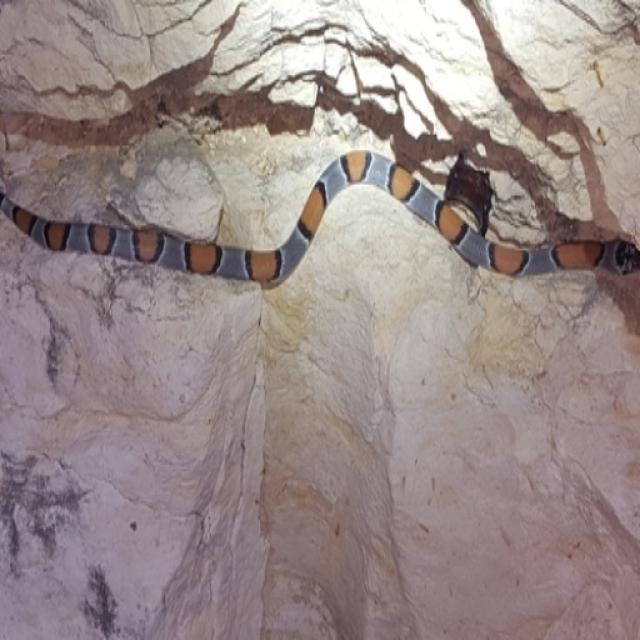snake: (4, 92, 640, 310)
